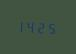five: (45, 20, 53, 34)
four: (27, 19, 35, 33)
one: (18, 18, 26, 33)
two: (36, 19, 44, 34)
